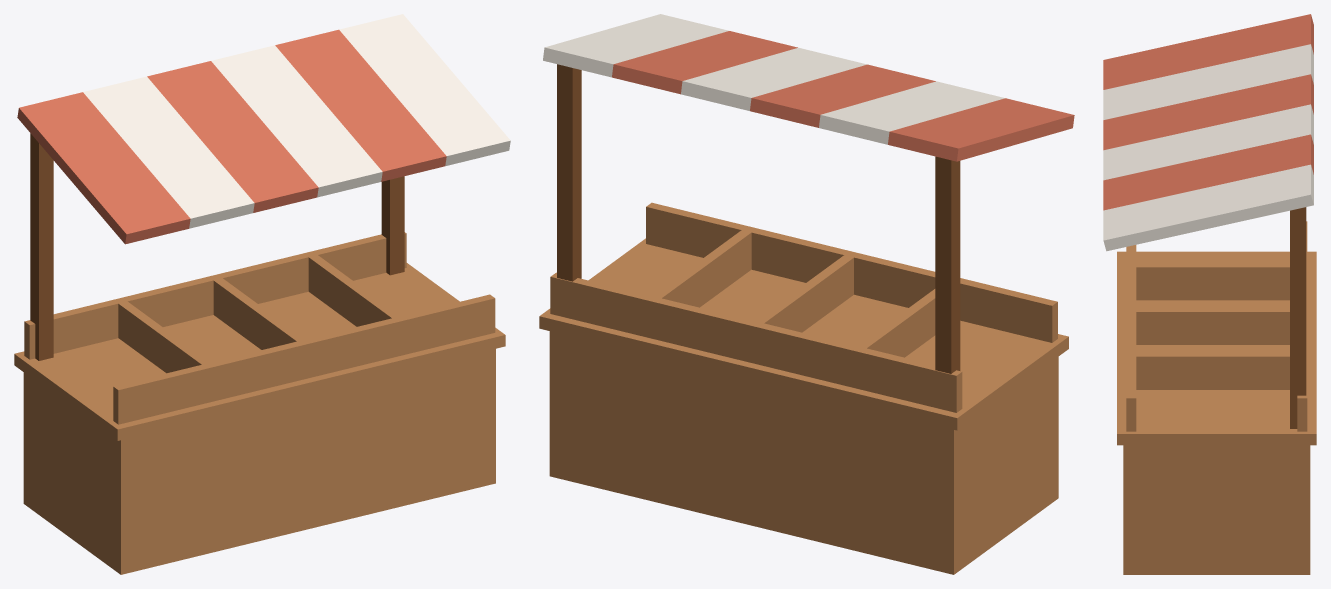
File: market_produce.glb
The picture shows the model from 3 angles, left to right: view 1: azimuth 30°, elevation 25°; view 2: azimuth 150°, elevation 25°; view 3: azimuth 270°, elevation 25°; orthographic projection. The views are drawn at different scales.
Visible parts, largest first — view 1: MarketProduce; view 2: MarketProduce; view 3: MarketProduce.
Boxes of the visible parts, bbox=[...] form: MarketProduce: bbox=[14, 14, 510, 574]; MarketProduce: bbox=[539, 14, 1074, 574]; MarketProduce: bbox=[1103, 14, 1316, 574].
Size of the model in its own units: 2.12 by 2.07 by 1.05.
